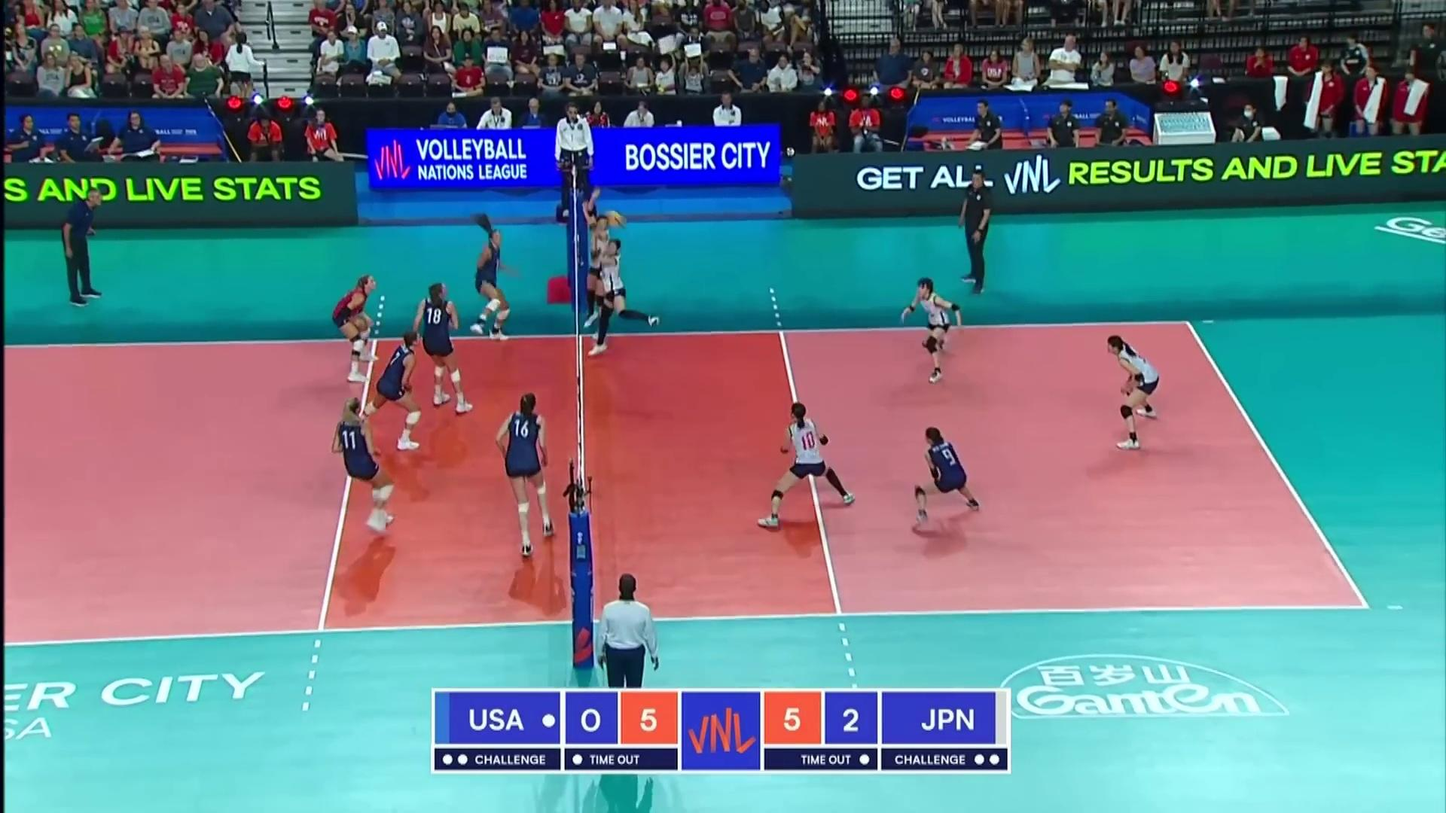player: (758, 400, 857, 526), (498, 392, 557, 556), (358, 331, 432, 453), (331, 398, 397, 534), (408, 279, 474, 415), (586, 238, 660, 358), (912, 426, 980, 527), (1103, 337, 1162, 452), (579, 208, 633, 328), (905, 279, 965, 385), (326, 274, 378, 384), (472, 225, 513, 342)
refree: (593, 574, 657, 692), (558, 104, 596, 222)
